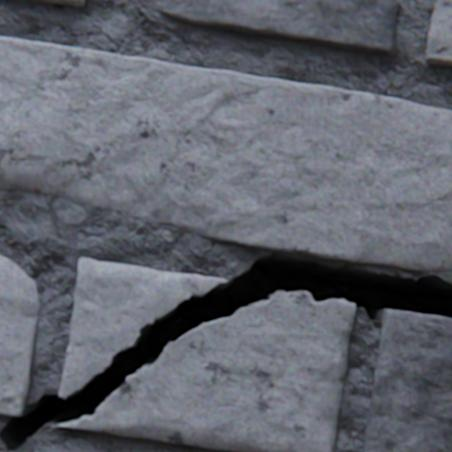brick: (0, 38, 451, 271), (142, 0, 396, 56), (363, 310, 451, 451), (0, 255, 39, 415), (424, 0, 451, 68), (29, 0, 86, 7)
broken_brick: (59, 291, 354, 451), (59, 258, 230, 397)
crack: (0, 252, 451, 451)
